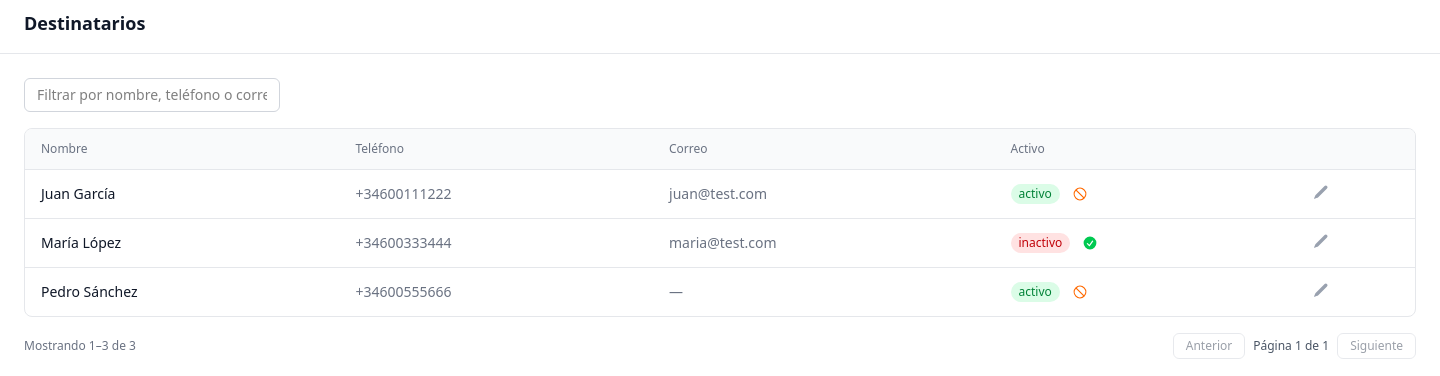
Scenario: RecipientsPage › shows "no matches" message when filter returns nothing
Expected: the text "Juan García" is shown, left=25, top=170, right=340, bottom=218
Type "zzz_no_match" into the field with placeholder "Filtrar por nombre, teléfono o correo...". click: (152, 95)
box: left=24, top=78, right=280, bottom=112
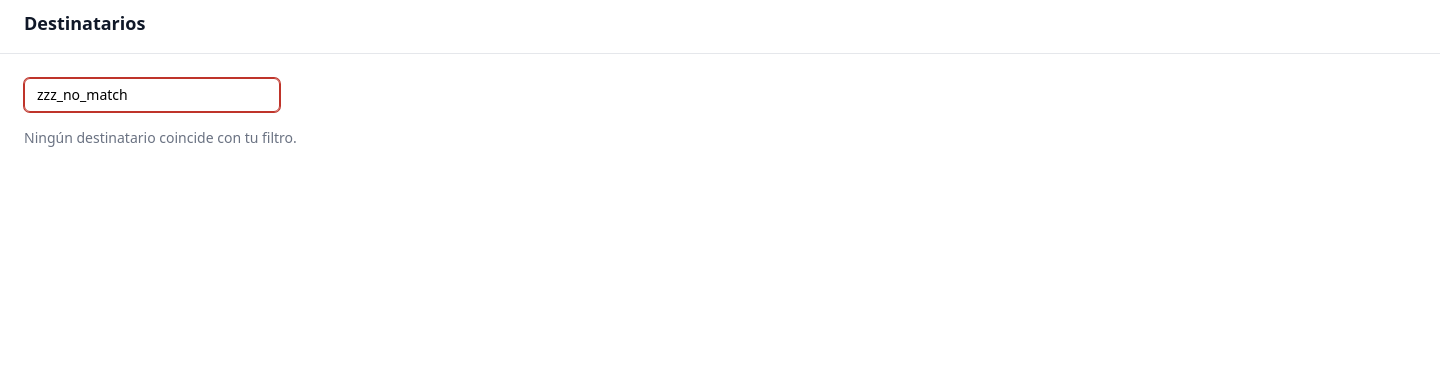
Expected: the text "Ningún destinatario coincide con tu filtro." is shown, left=24, top=128, right=297, bottom=147
